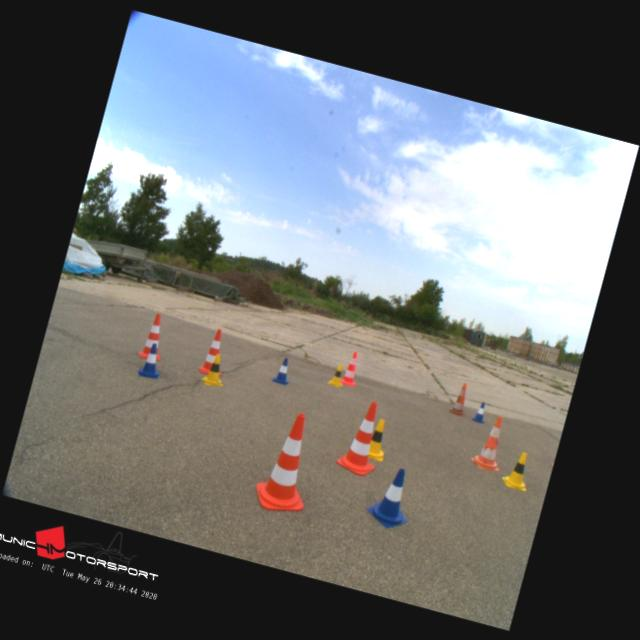blue_cone: (364, 462, 418, 532), (138, 342, 166, 378), (272, 356, 293, 384), (470, 400, 488, 422)
large_orange_cone: (250, 407, 325, 517), (334, 394, 389, 476), (469, 410, 511, 470), (137, 311, 170, 362), (198, 327, 232, 376), (448, 382, 472, 416), (340, 349, 362, 386)
yellow_cone: (499, 448, 535, 492), (363, 416, 392, 460), (200, 351, 230, 387), (327, 362, 347, 387)
